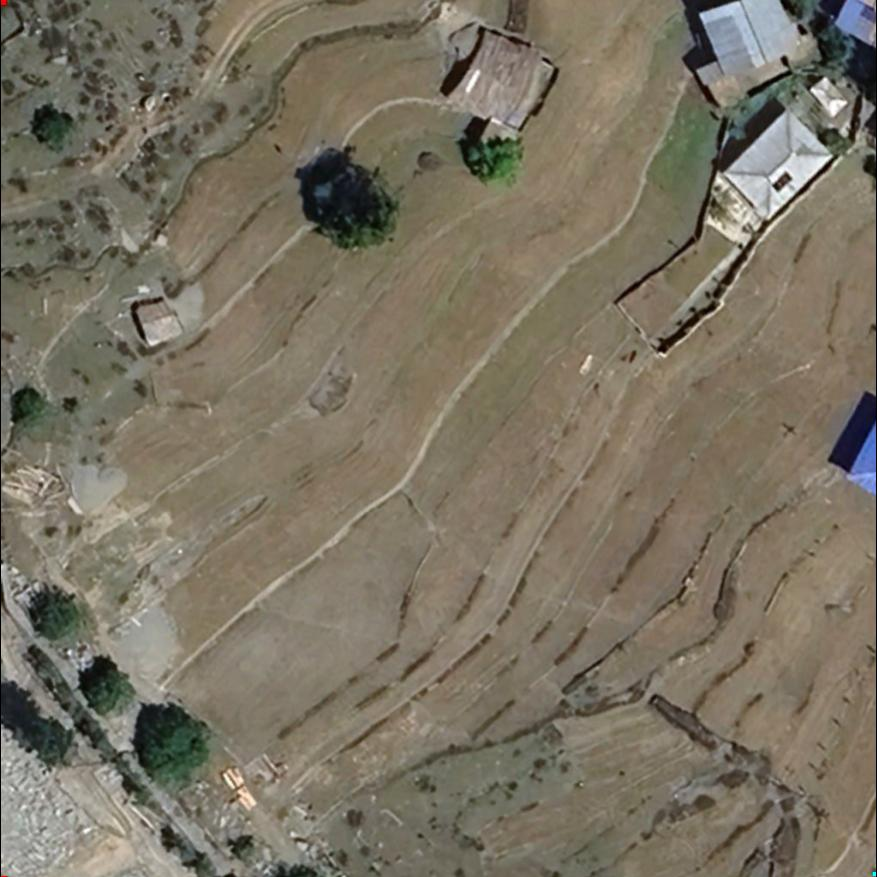Solarpanel: (770, 166, 795, 197)
